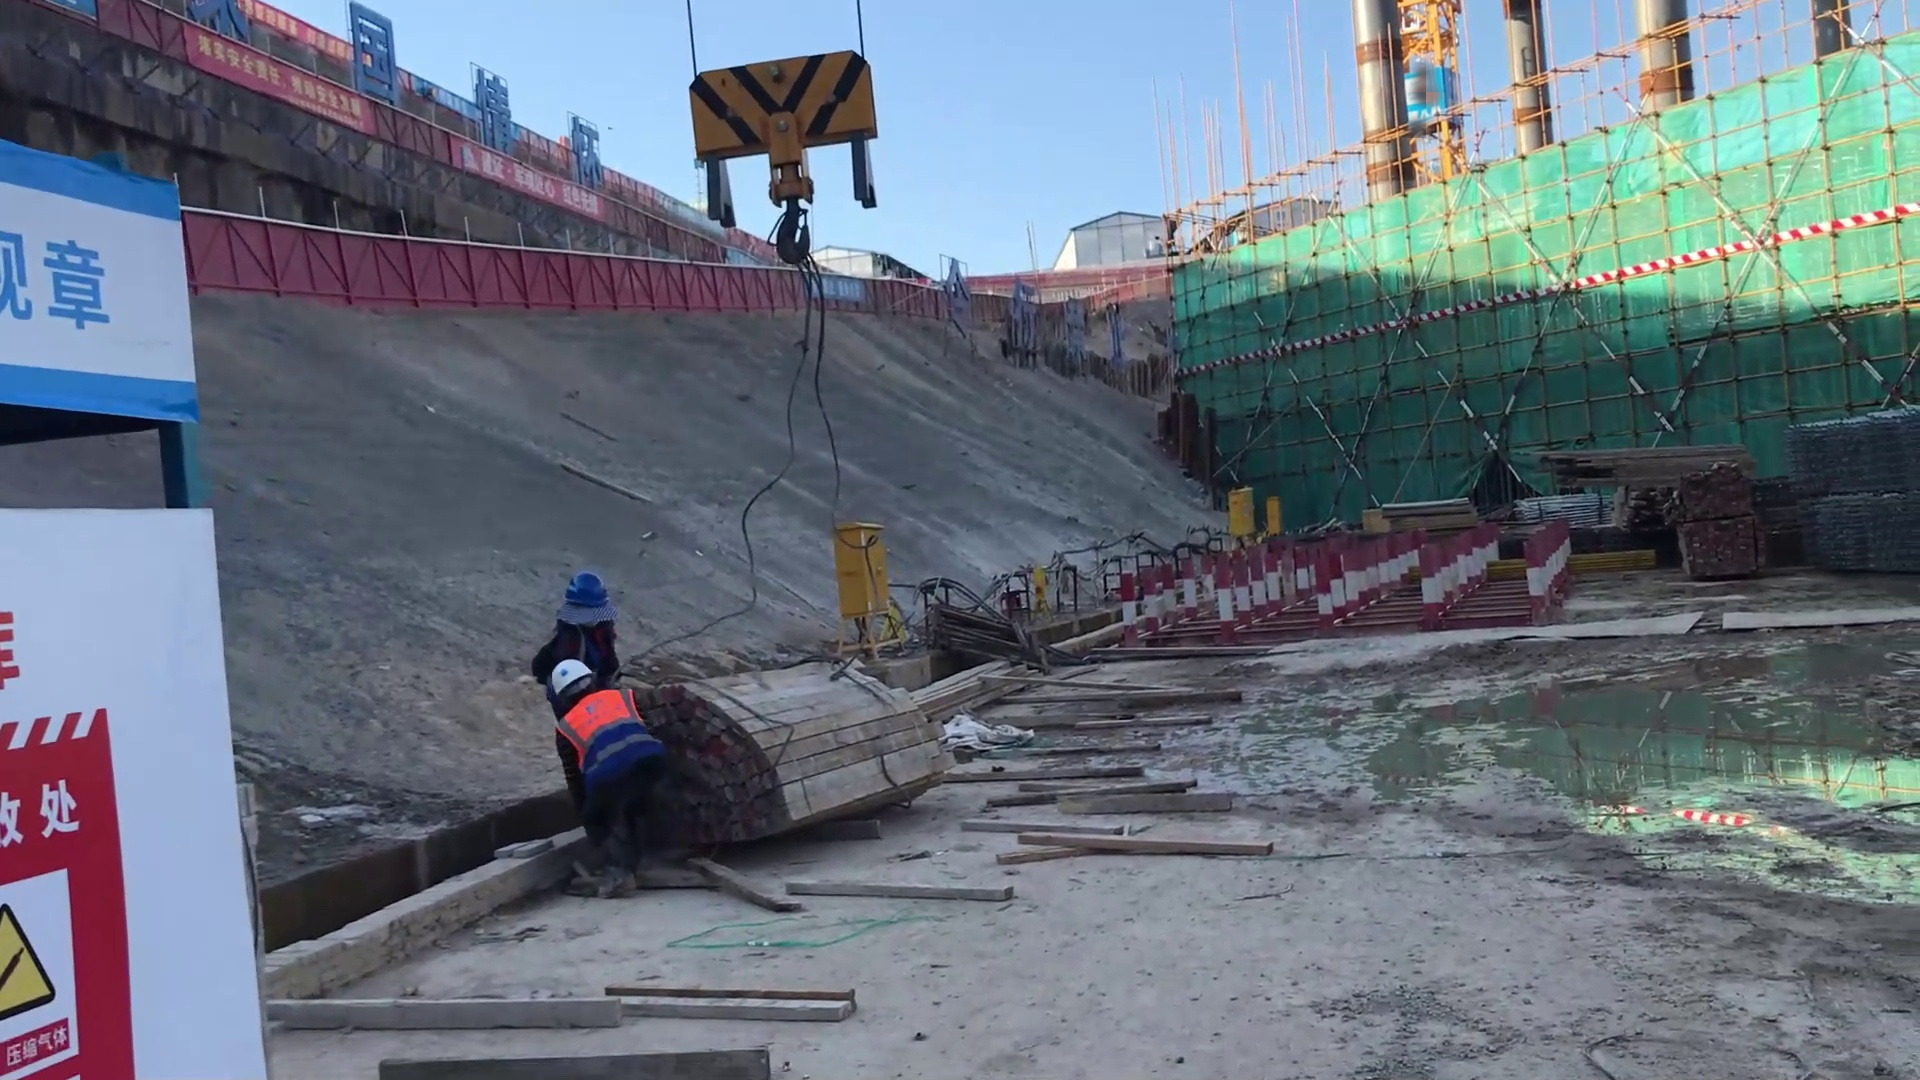ebox: (835, 516, 885, 627), (1222, 484, 1252, 537), (1262, 497, 1281, 531)
fence: (181, 209, 584, 312), (584, 246, 806, 313)
helmet: (554, 566, 608, 634), (531, 652, 587, 703)
hook: (689, 37, 880, 211)
person: (538, 658, 678, 874), (519, 574, 637, 677)
vest: (555, 696, 641, 781)
wood: (973, 604, 1310, 908), (697, 655, 960, 850), (1519, 420, 1758, 498)
